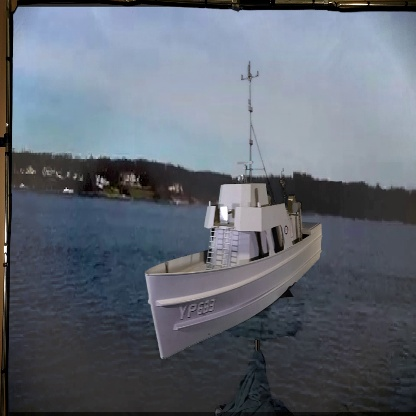YP689: (142, 66, 323, 366)
